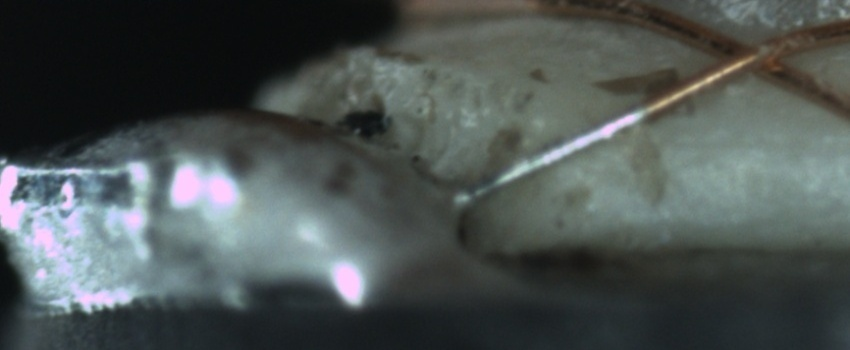CL: (687, 21, 799, 90)
DL: (633, 123, 847, 177)
TS: (459, 98, 644, 208)
